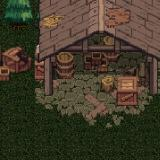Hide: (81, 82, 145, 156)
Obstacle: (34, 0, 160, 131), (0, 32, 34, 96), (0, 0, 35, 31)
